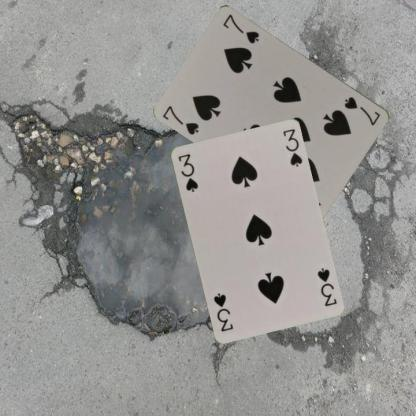3s: (175, 151, 199, 193), (314, 266, 338, 308)
7s: (160, 103, 201, 136), (342, 94, 382, 127)
